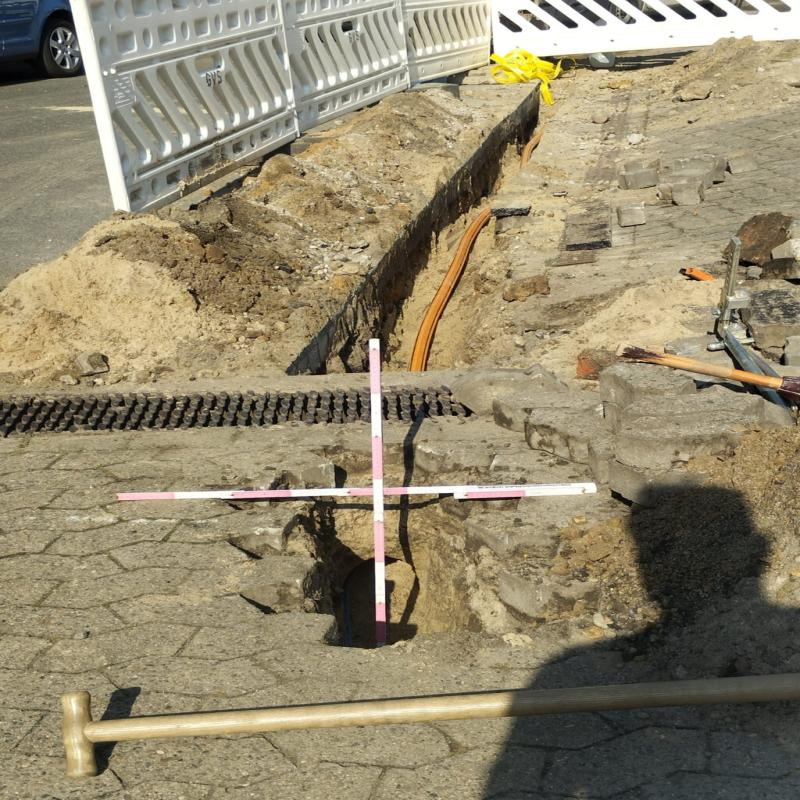Orang-Speednetrohrchen: (410, 209, 491, 371)
